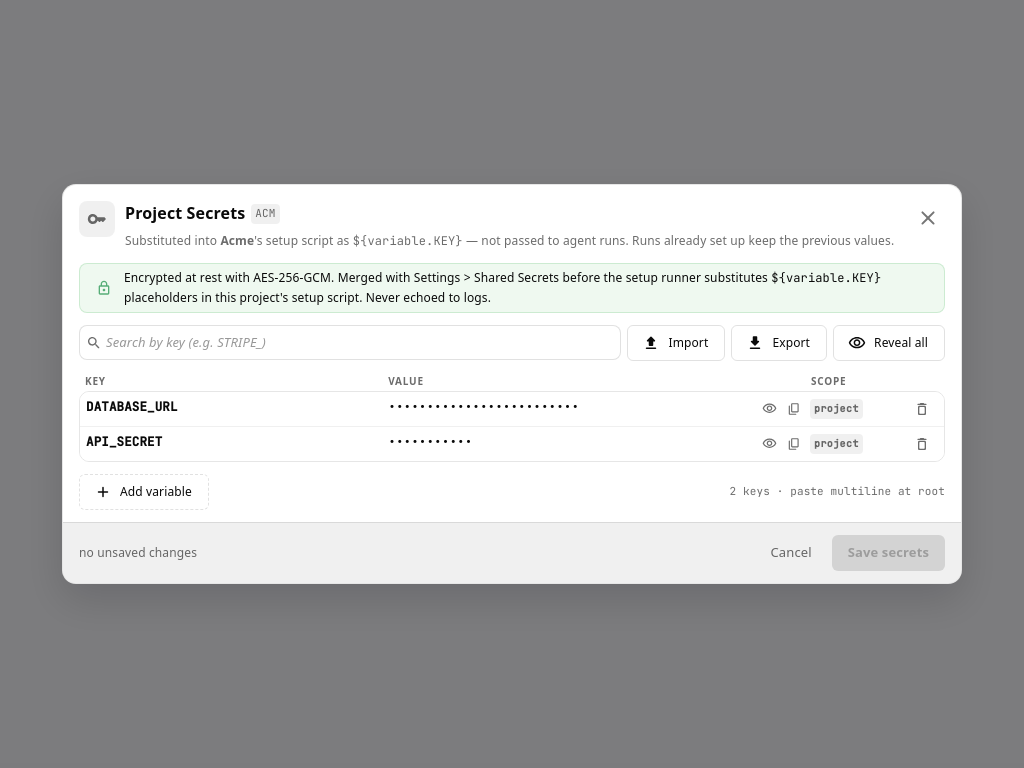
Test: ProjectEnvSecretsModal — form interactions › Reveal all toggles to Hide all and back
The width and height of the screenshot is (1024, 768).
Check: the 1st field showing "DATABASE_URL" is shown, box x1=86 y1=397 x2=384 y2=421
Click the button "Reveal all" at coordinates (889, 343), box x1=833 y1=325 x2=945 y2=361
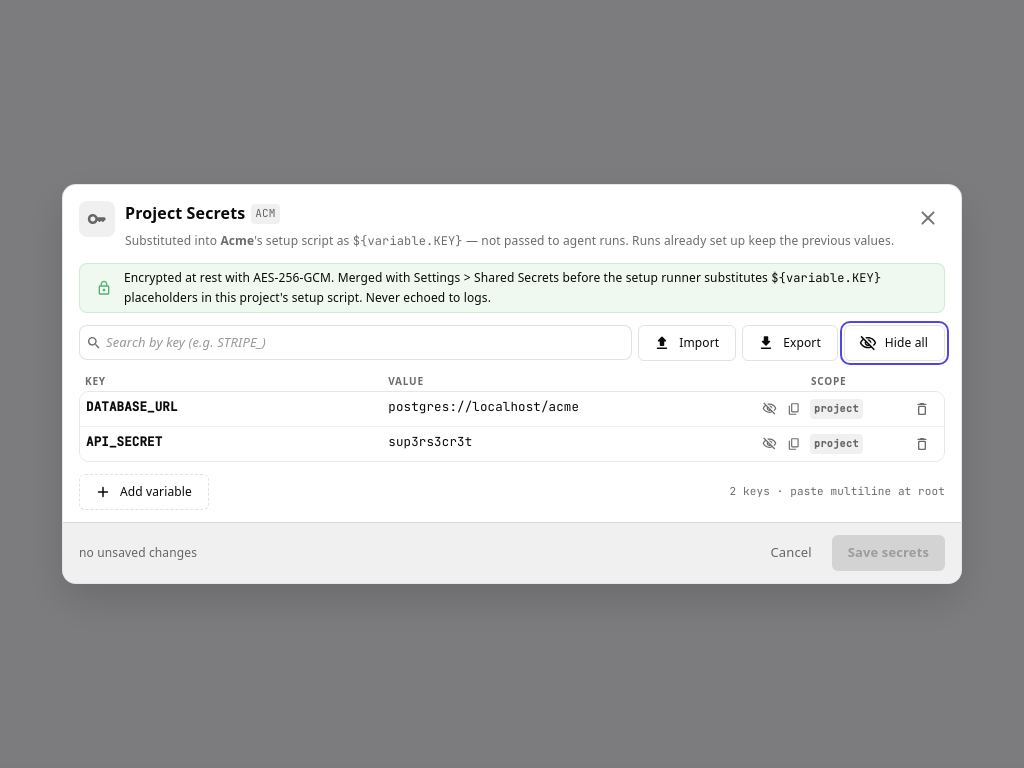
Check: the button "Hide all" is shown
Click the button "Hide all" at coordinates (894, 343), box x1=844 y1=325 x2=945 y2=361
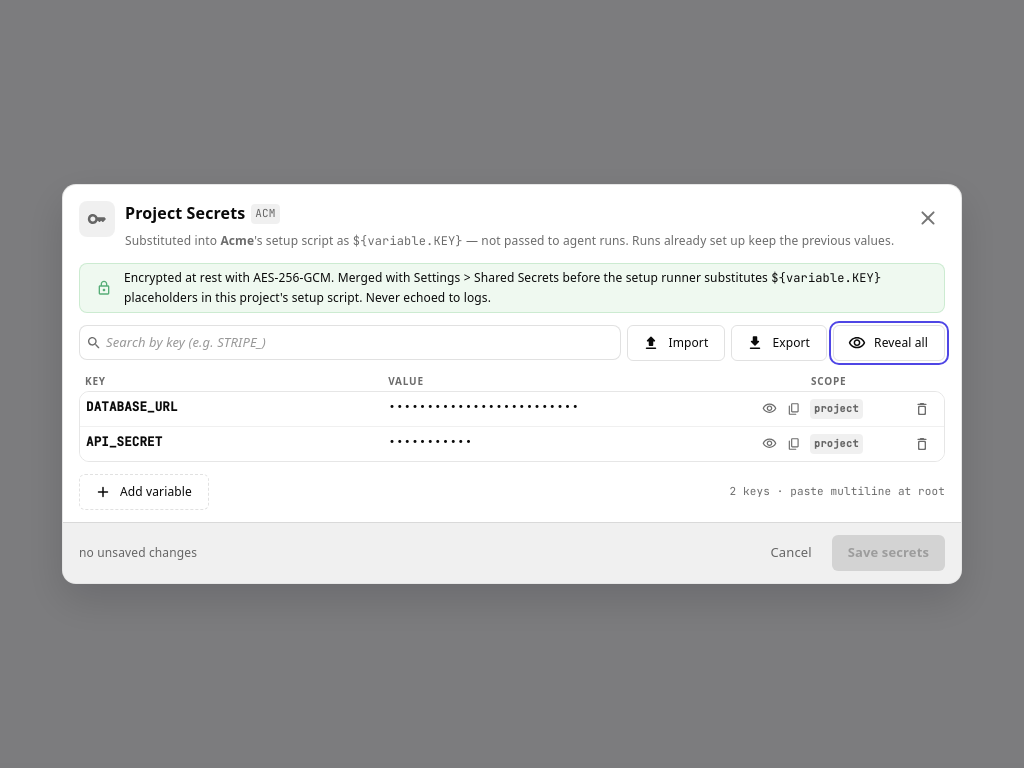
Check: the button "Reveal all" is shown, box x1=833 y1=325 x2=945 y2=361
